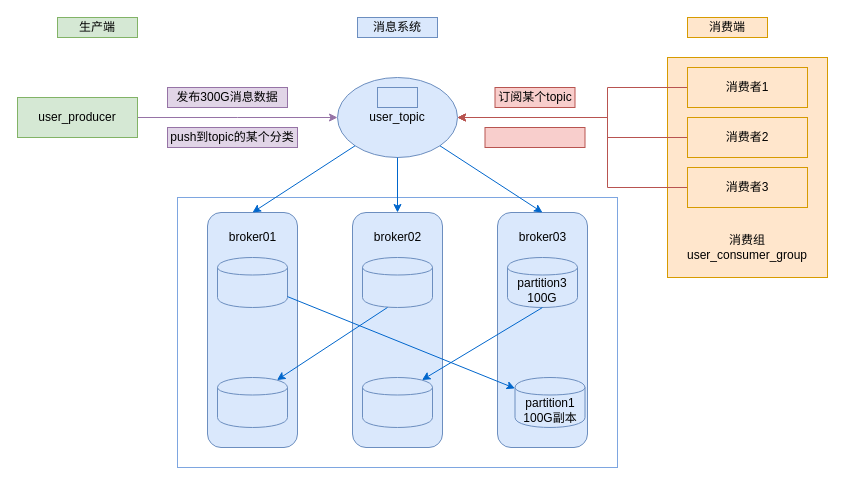
Image size: 845x485. Some labels were removed from this diagram. The centre of each missing label's shape, as x and y in pixels:
"partition1 100G" belongs at (x=252, y=282).
"partition2 100G" belongs at (x=397, y=282).
"partition2 100G副本" belongs at (x=252, y=402).
"partition3 100G副本" belongs at (x=397, y=402).
"pull方式主动拉取" belongs at (x=534, y=137).
"Topic" belongs at (x=397, y=97).
